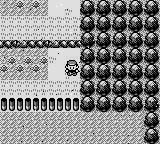main: (65, 60, 79, 76)
no-caminable: (80, 1, 159, 143), (0, 97, 79, 111)
salto: (0, 40, 79, 48)
